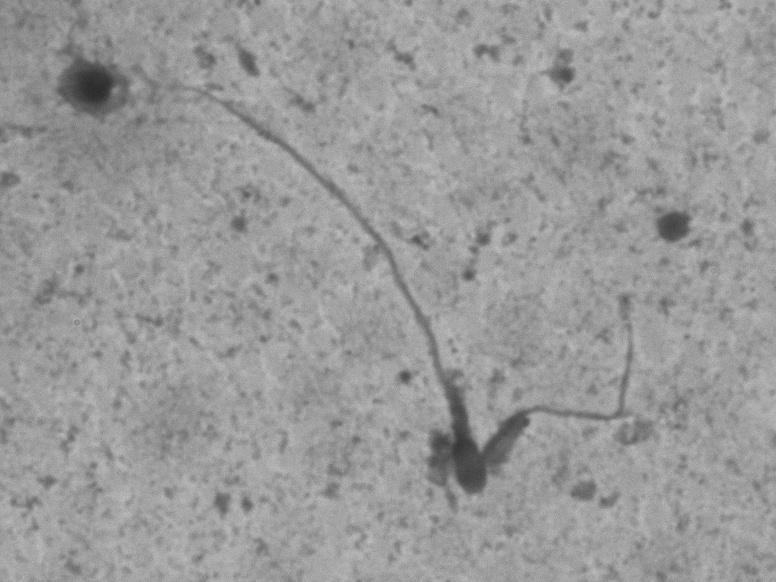Abnormal: (146, 66, 494, 507)
